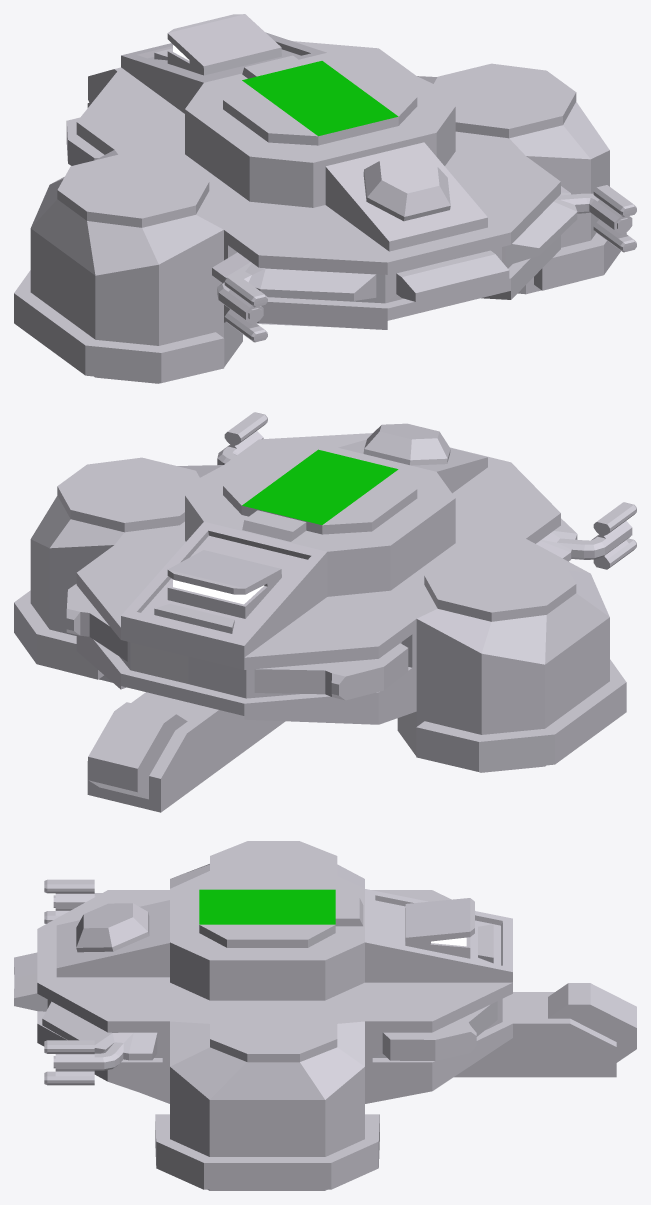
3 renders of one model, top to bottom at view 1: azimuth 30°, elevation 25°; view 2: azimuth 150°, elevation 25°; view 3: azimuth 270°, elevation 25°, orthographic. The views are drawn at different scales.
Parts seen in each view (by area): view 1: part.base3x; view 2: part.base3x; view 3: part.base3x.
Boxes of the visible parts, x1,y1,x2,y2 form: part.base3x: (14, 14, 636, 383); part.base3x: (14, 412, 636, 812); part.base3x: (14, 841, 636, 1190).
Bounding box in the file's own units: 1.98 × 0.6737 × 2.22.
